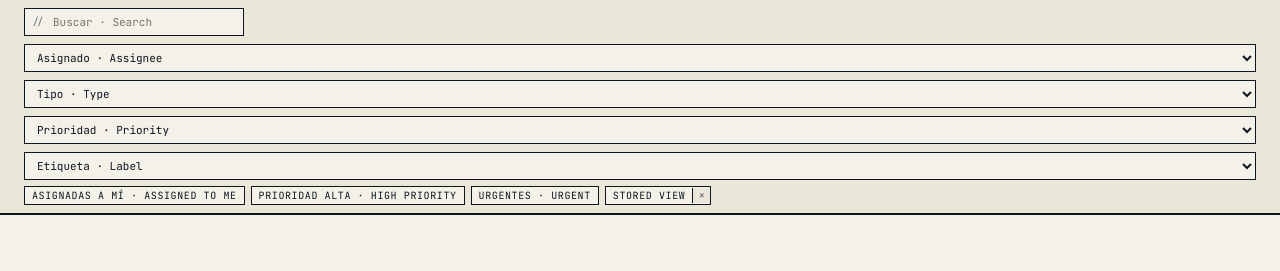
Test case: FilterBar — saved views › loads pre-existing saved views from localStorage and can delete one
// Applying it triggers the filter.
Click the button "Stored view": (649, 196) [606, 187, 692, 204]
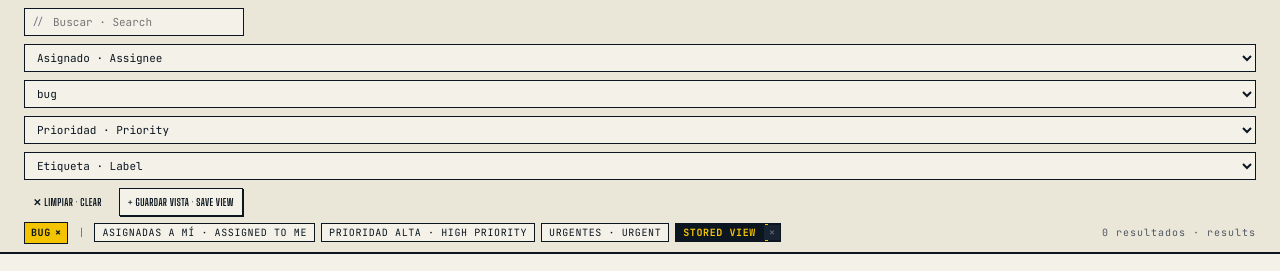
Click the 2nd button titled "Eliminar vista · Delete view": (772, 233) [763, 225, 780, 240]
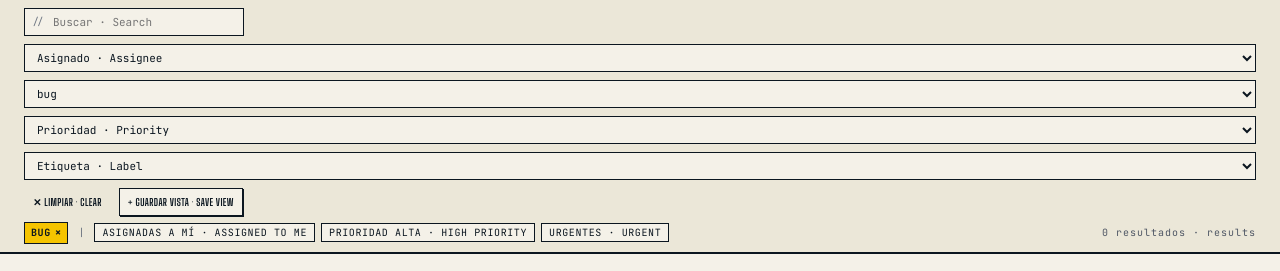
Now the button "Stored view" is gone
